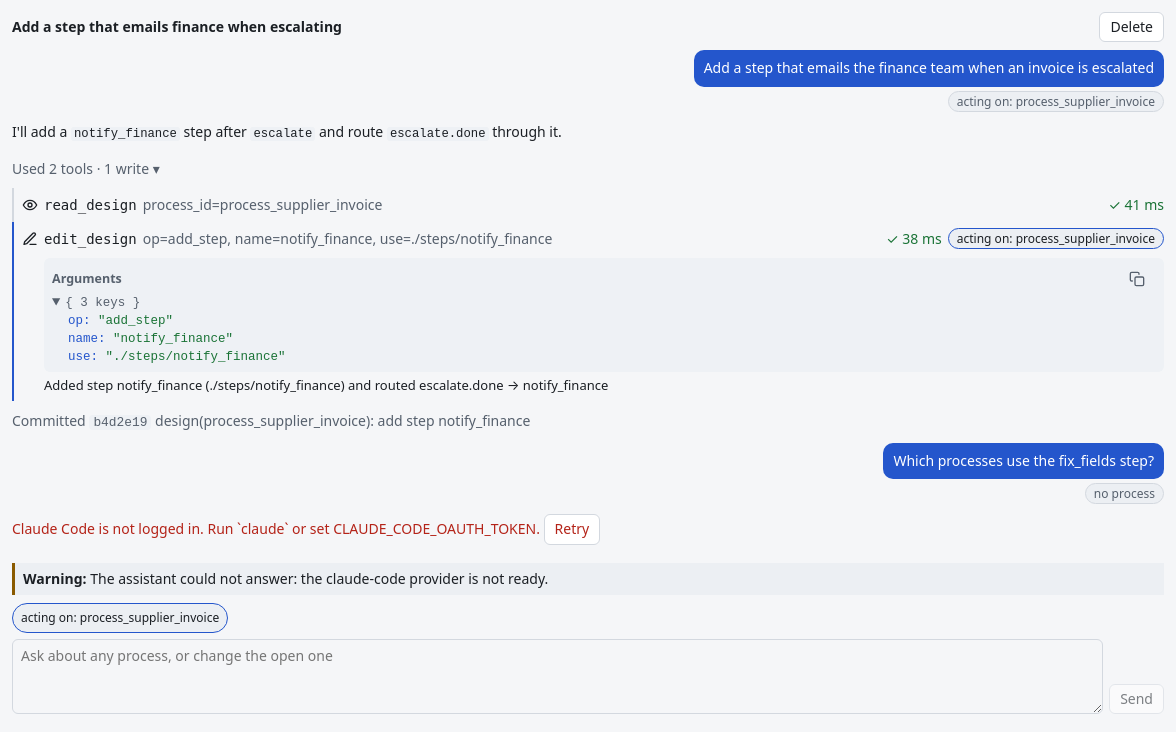
Scenario: ChatView header › renames the chat on Enter
Expected: the text "Add a step that emails the finance team when an invoice is escalated" is shown, [694, 50, 1164, 87]
Step 1. Click the button "Add a step that emails finance when escalating" → coordinates (177, 26), box [12, 12, 1091, 42]
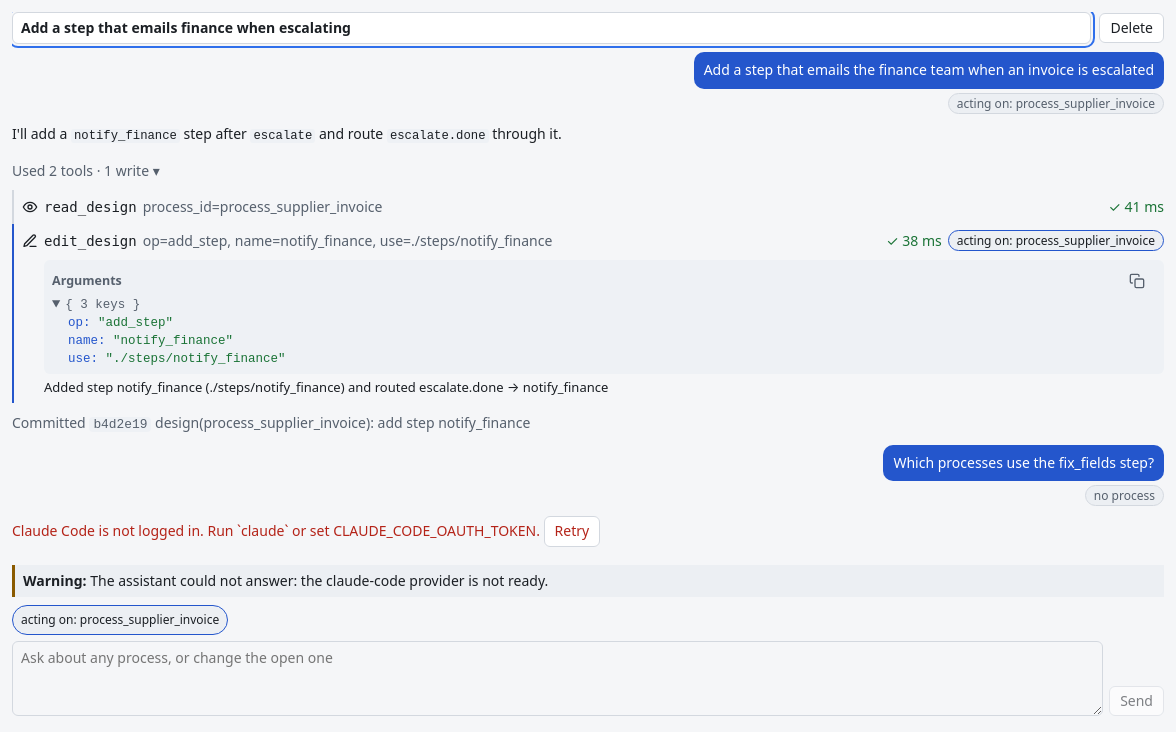
Step 2. Replace the text in the field named "Chat title" with "Finance notifications" → coordinates (552, 28), box [12, 12, 1091, 44]
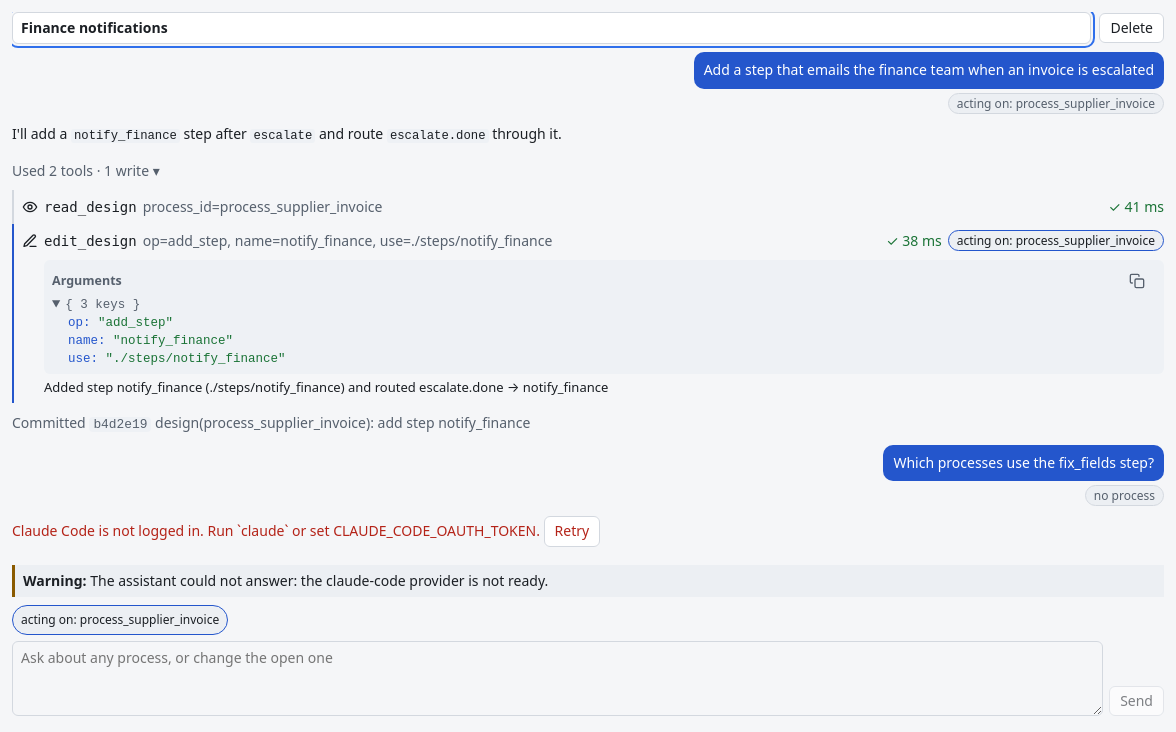
Step 3. Press Enter in the field named "Chat title", box [12, 12, 1091, 44]
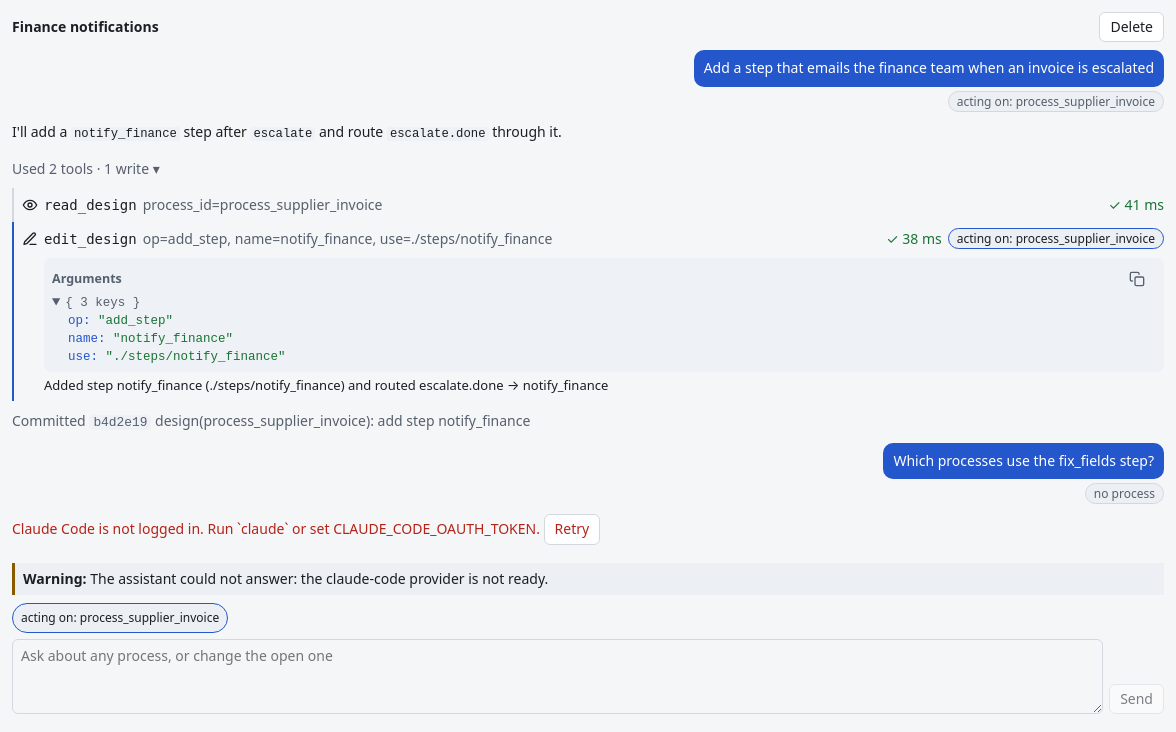
Expected: the button "Finance notifications" is shown, [12, 12, 1091, 42]
